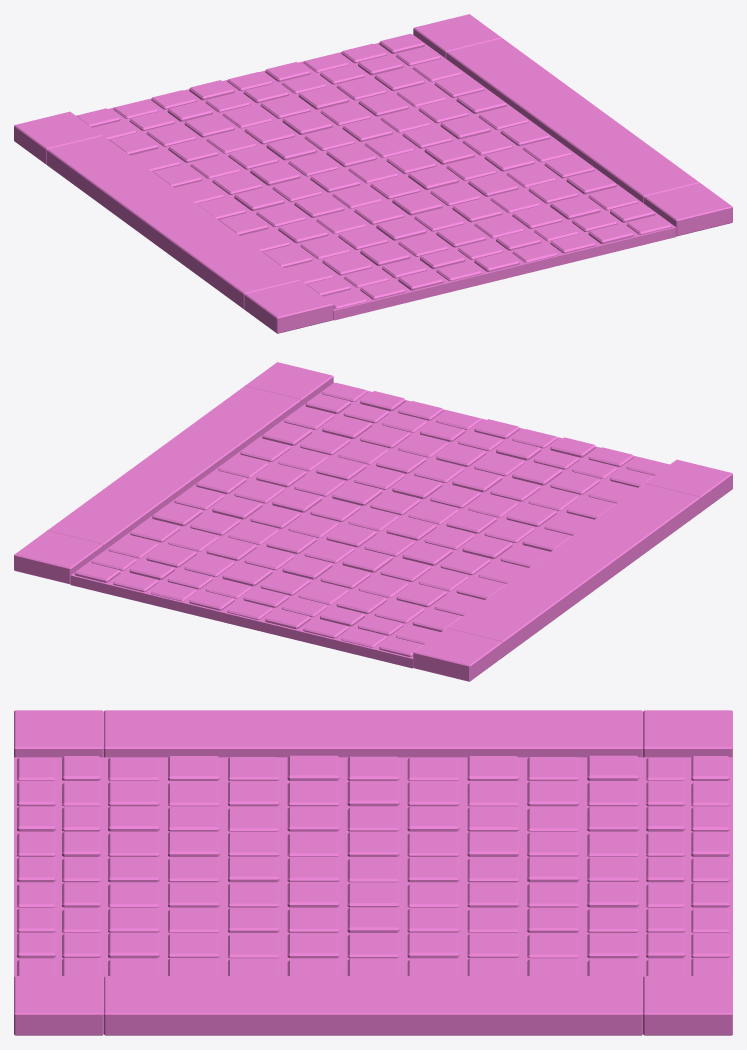
Rendered from Road_Cobble.fbx.
The picture shows the model from 3 angles, top to bottom: view 1: azimuth 30°, elevation 25°; view 2: azimuth 150°, elevation 25°; view 3: azimuth 270°, elevation 25°; orthographic projection. The views are drawn at different scales.
Visible parts, largest first — view 1: Tile; view 2: Tile; view 3: Tile.
Boxes of the visible parts, x1,y1,x2,y2 form: Tile: (14, 14, 732, 333); Tile: (14, 362, 732, 681); Tile: (14, 710, 732, 1035).
Size of the model in its own units: 40 by 1.4 by 40.
1 material, 1 textured.
